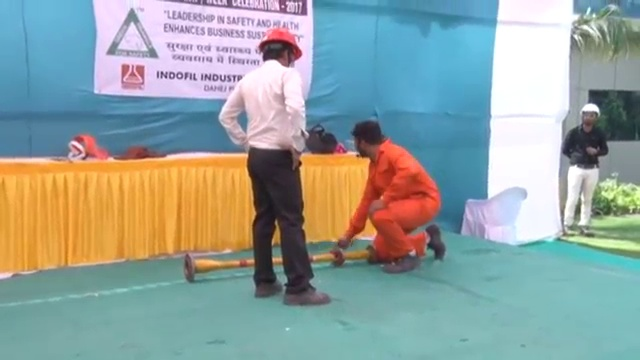helmet: (258, 27, 303, 59), (579, 102, 601, 118)
helmet_off: (349, 121, 384, 157)
helmet_on: (256, 27, 304, 70), (577, 102, 600, 134)
person: (220, 26, 333, 308), (344, 121, 447, 275), (561, 102, 608, 237)
